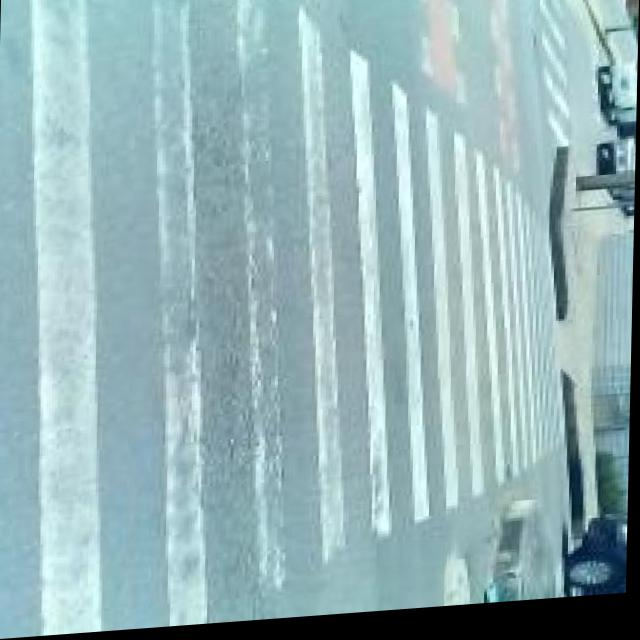zebra: (46, 193, 524, 536)
